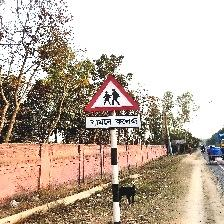College-in-front: (88, 67, 146, 126)
